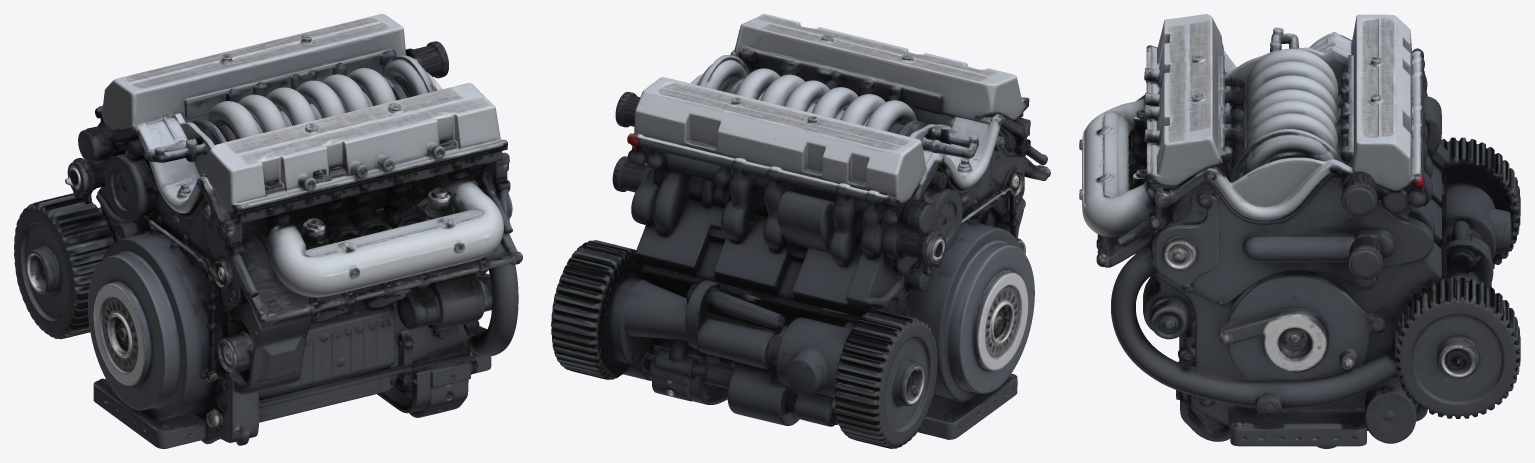
Rendered from motor-v2.glb.
3 renders of one model, left to right at view 1: azimuth 30°, elevation 25°; view 2: azimuth 150°, elevation 25°; view 3: azimuth 270°, elevation 25°, orthographic. The views are drawn at different scales.
Visible parts, largest first — view 1: node_0; view 2: node_0; view 3: node_0.
Boxes of the visible parts, x1,y1,x2,y2 form: node_0: (14, 14, 522, 448); node_0: (551, 14, 1050, 448); node_0: (1079, 14, 1520, 448).
Size of the model in its own units: 0.8213 by 0.721 by 0.8908.
1 material, 1 textured.
